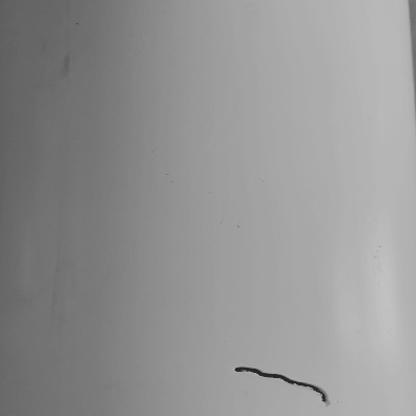fengxi: (234, 366, 328, 406)
